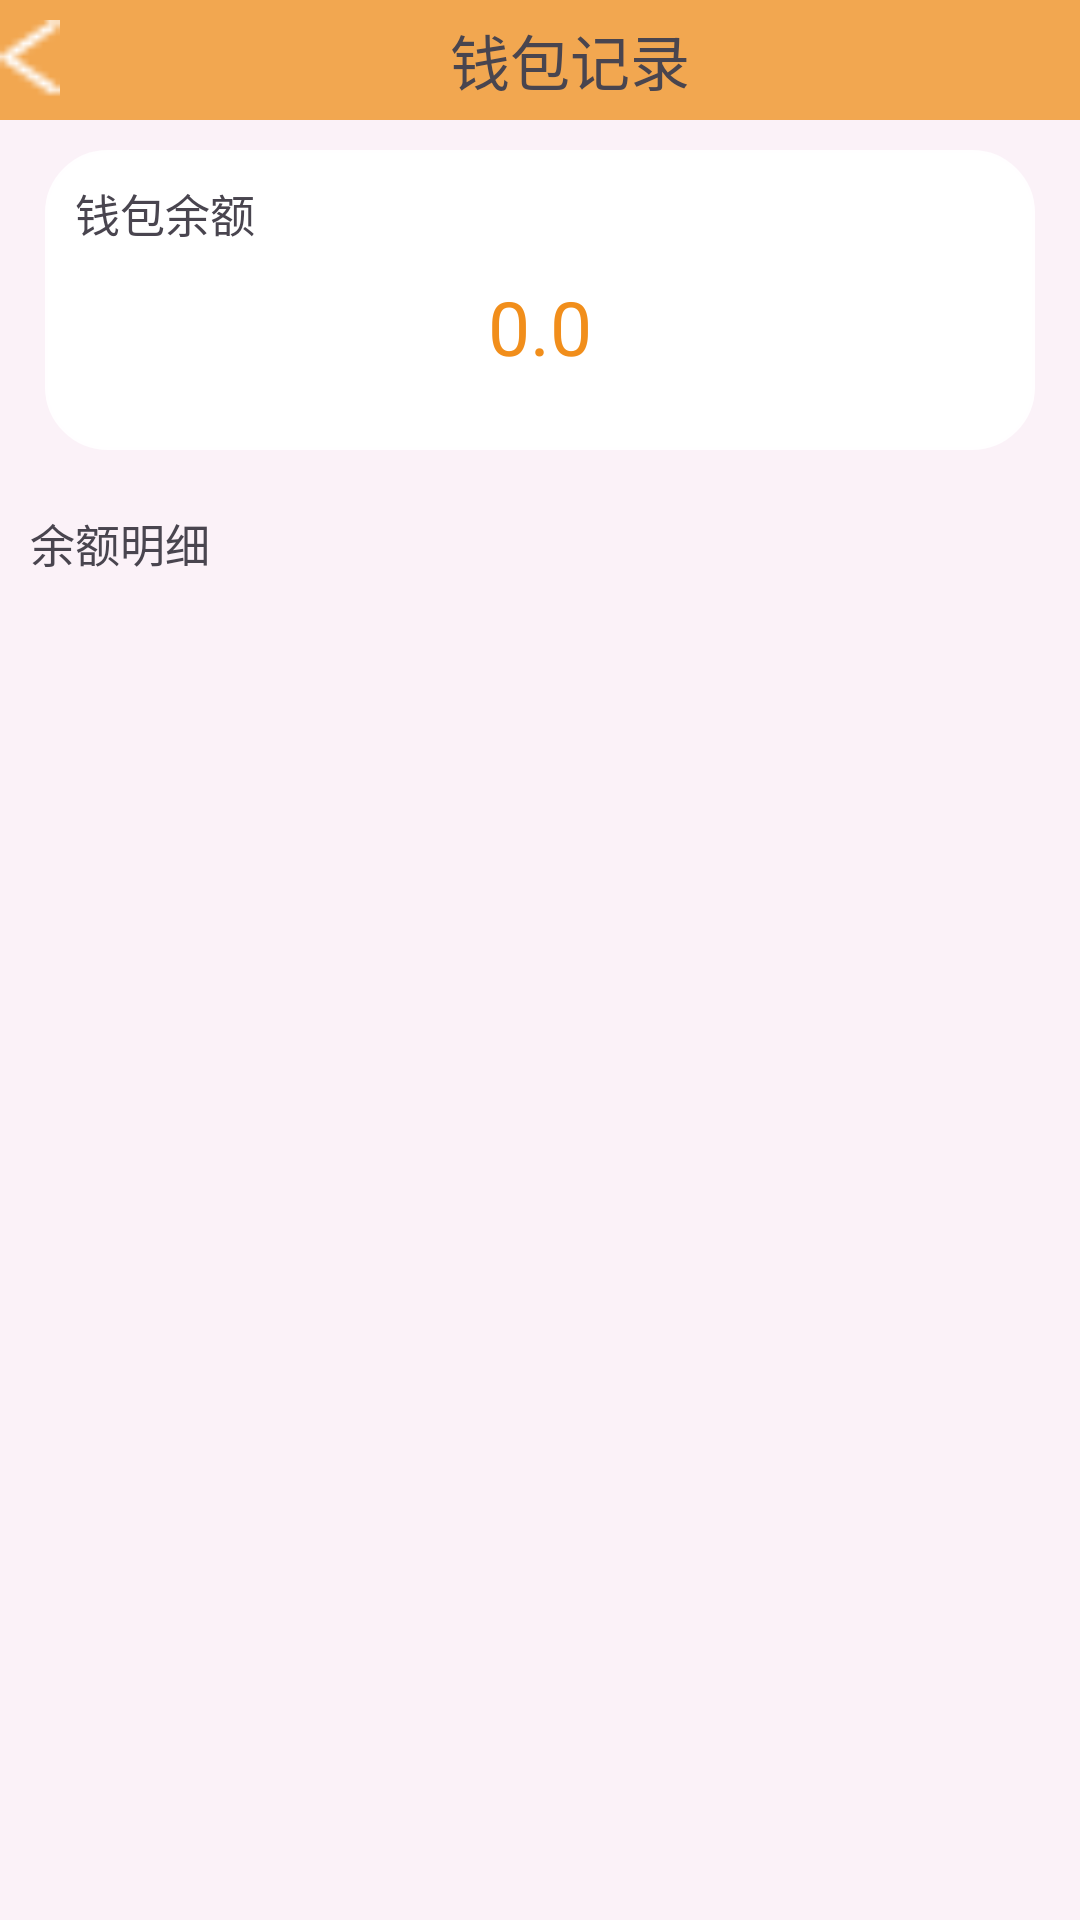

Named icons in this screenshot (1080 x 1920) and their centers, [x,y]:
back: [30,58]
